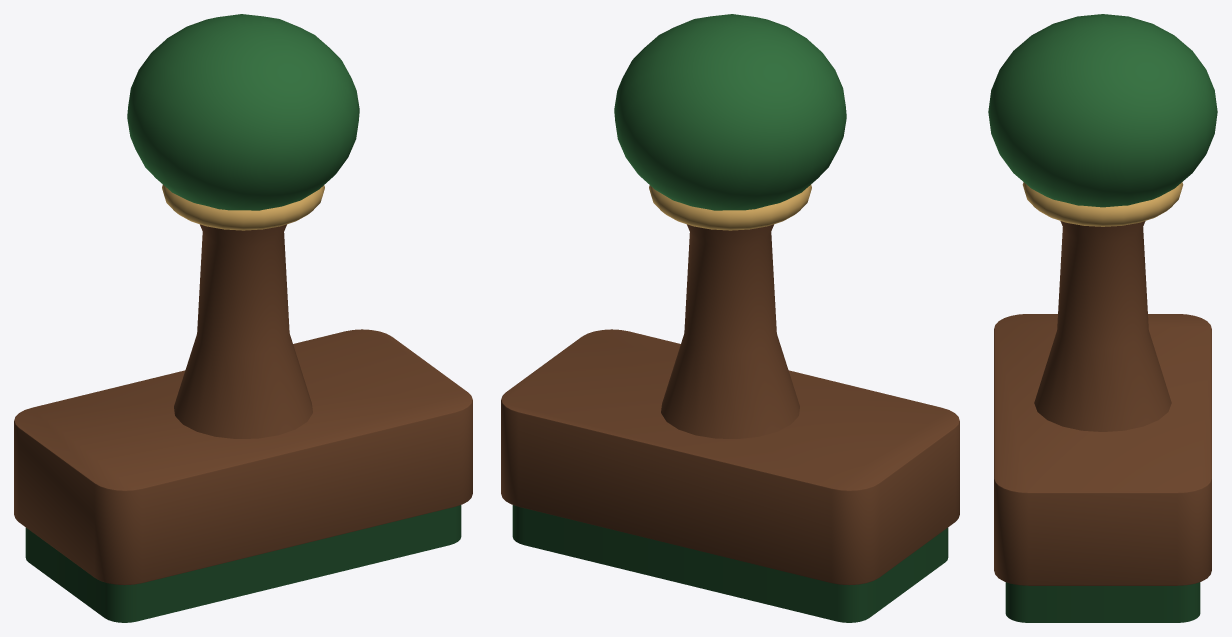
The model's file is Stamp_Return.fbx.
3 renders of one model, left to right at view 1: azimuth 30°, elevation 25°; view 2: azimuth 150°, elevation 25°; view 3: azimuth 270°, elevation 25°, orthographic.
Visible parts, largest first — view 1: Stamp_Return; view 2: Stamp_Return; view 3: Stamp_Return.
Part boxes in pixels (<box>): Stamp_Return: <box>14,14,472,622</box>; Stamp_Return: <box>501,14,959,622</box>; Stamp_Return: <box>988,14,1217,622</box>.
Bounding box in the file's own units: 0.074 × 0.0984 × 0.04.
